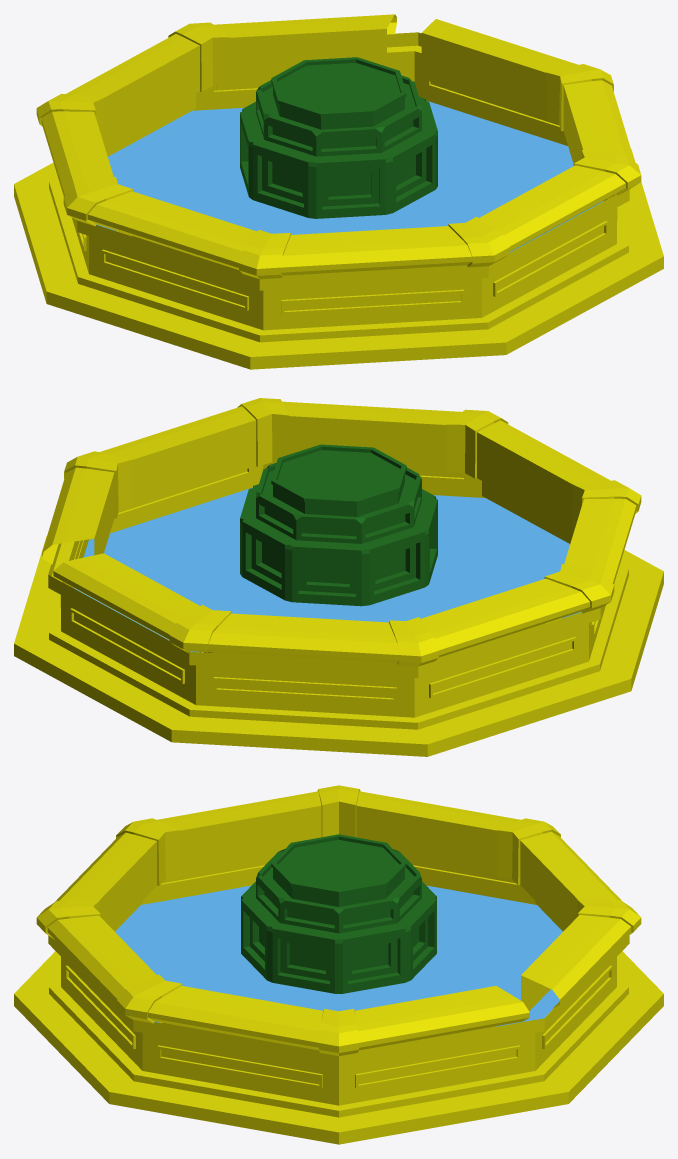
Rendered from Ho nuoc.fbx.
3 renders of one model, top to bottom at view 1: azimuth 30°, elevation 25°; view 2: azimuth 150°, elevation 25°; view 3: azimuth 270°, elevation 25°, orthographic. The views are drawn at different scales.
Parts seen in each view (by area): view 1: Ho nuoc; view 2: Ho nuoc; view 3: Ho nuoc.
Part boxes in pixels (x1=…): Ho nuoc: x1=14, y1=14, x2=663, y2=369; Ho nuoc: x1=14, y1=398, x2=663, y2=756; Ho nuoc: x1=14, y1=785, x2=663, y2=1144.
Bounding box in the file's own units: 427 × 102 × 423.
